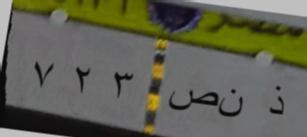2: (65, 62, 98, 96)
3: (105, 70, 139, 103)
7: (27, 57, 57, 91)
noon: (220, 85, 247, 120)
saad: (169, 87, 219, 115)
zaal: (262, 82, 290, 120)
